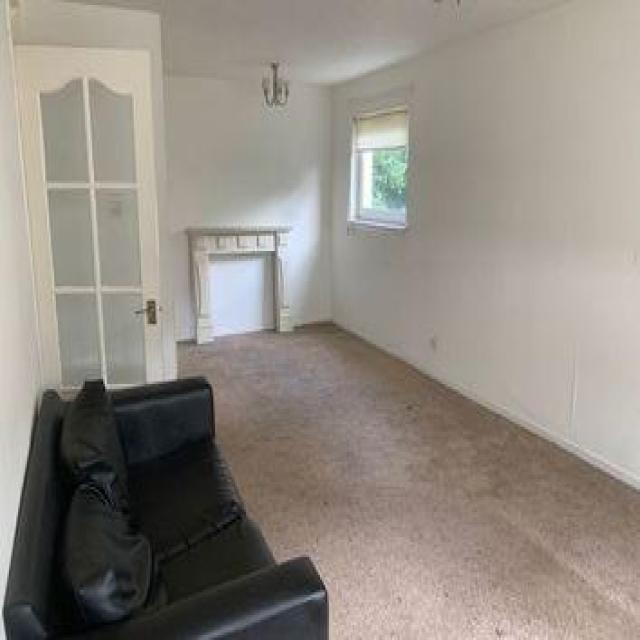Wall: (335, 0, 640, 487), (181, 326, 640, 639), (161, 65, 409, 339), (86, 1, 561, 84), (0, 0, 43, 638), (10, 1, 160, 117)
